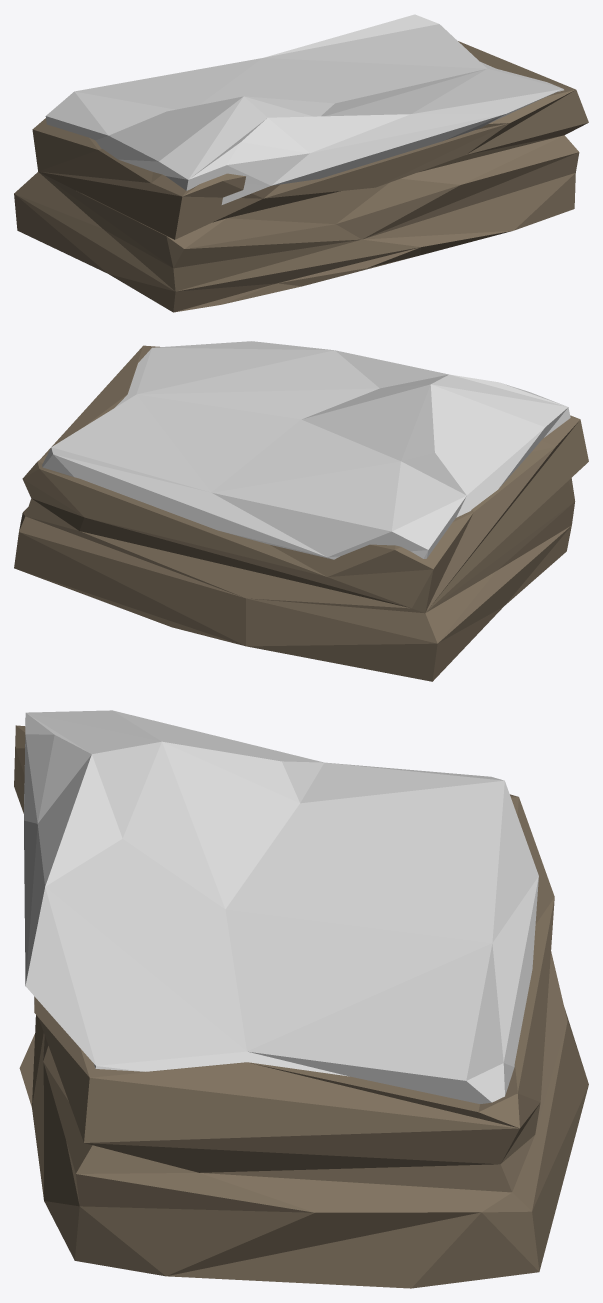
Rendered from Stone_6_snow_brown_mat.fbx.
The picture shows the model from 3 angles, top to bottom: view 1: azimuth 30°, elevation 25°; view 2: azimuth 150°, elevation 25°; view 3: azimuth 270°, elevation 25°; orthographic projection. The views are drawn at different scales.
Parts seen in each view (by area): view 1: Stone_6_snow_brown_mat; view 2: Stone_6_snow_brown_mat; view 3: Stone_6_snow_brown_mat.
Boxes of the visible parts, bbox=[...] form: Stone_6_snow_brown_mat: bbox=[14, 14, 588, 312]; Stone_6_snow_brown_mat: bbox=[14, 341, 588, 681]; Stone_6_snow_brown_mat: bbox=[14, 710, 588, 1288].
Bounding box in the file's own units: 243 × 100 × 167.
